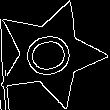O_E: (19, 27, 81, 82)
